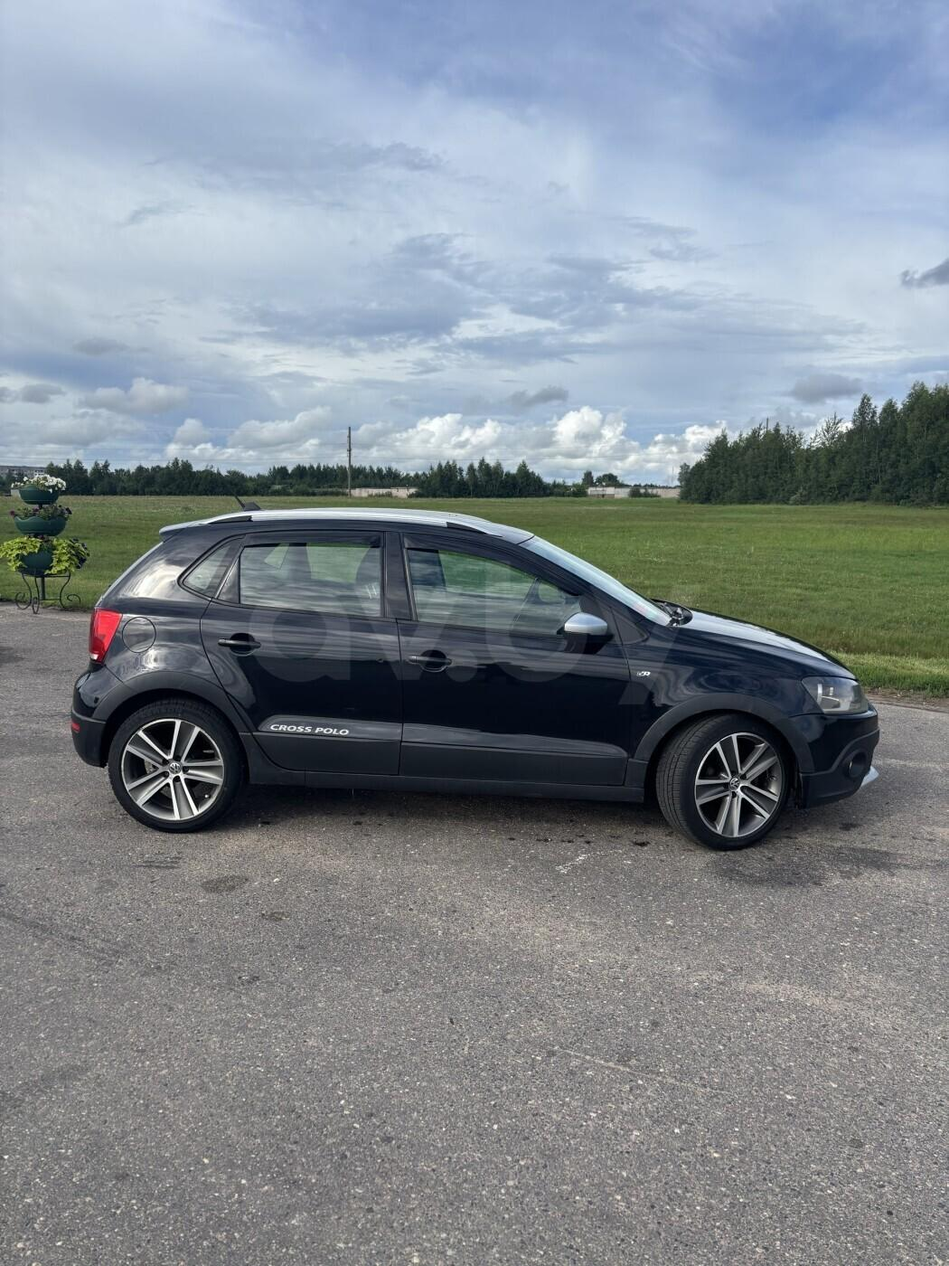Polo_2009-2015: (56, 508, 886, 881)
